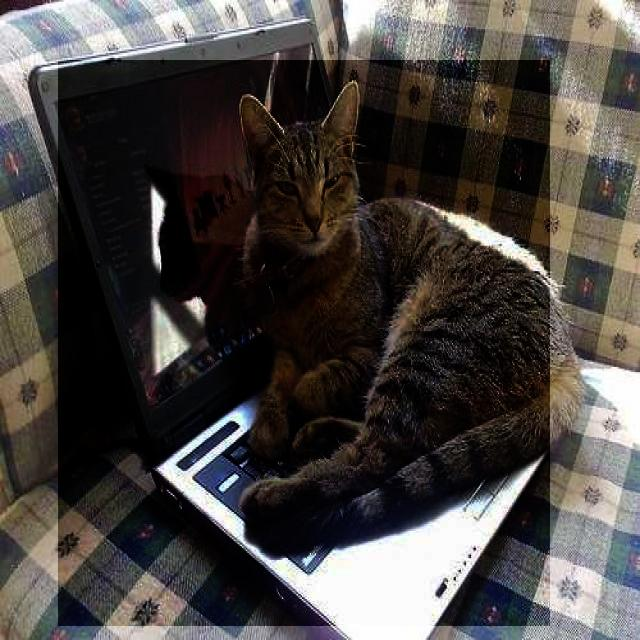-keyboard-: (58, 60, 550, 626)
